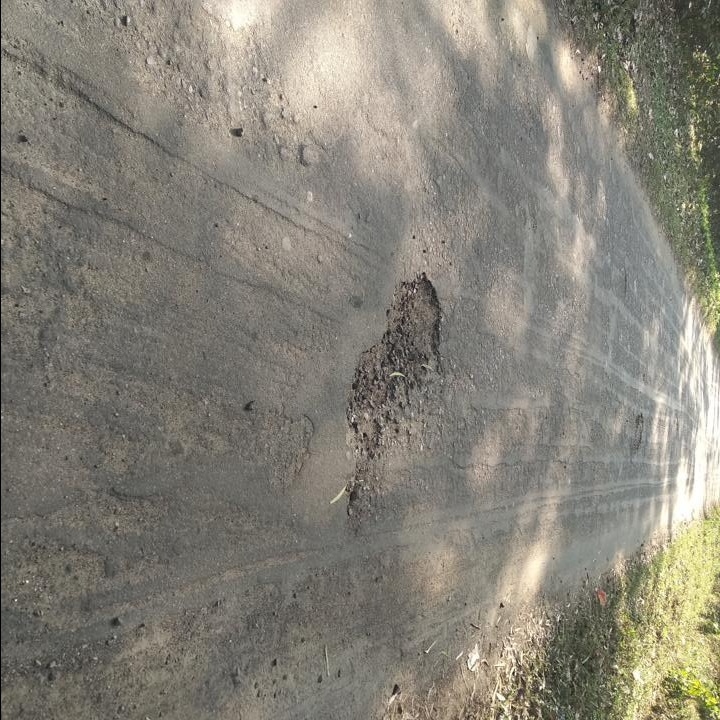pothole: (345, 267, 447, 457), (631, 409, 649, 450)
